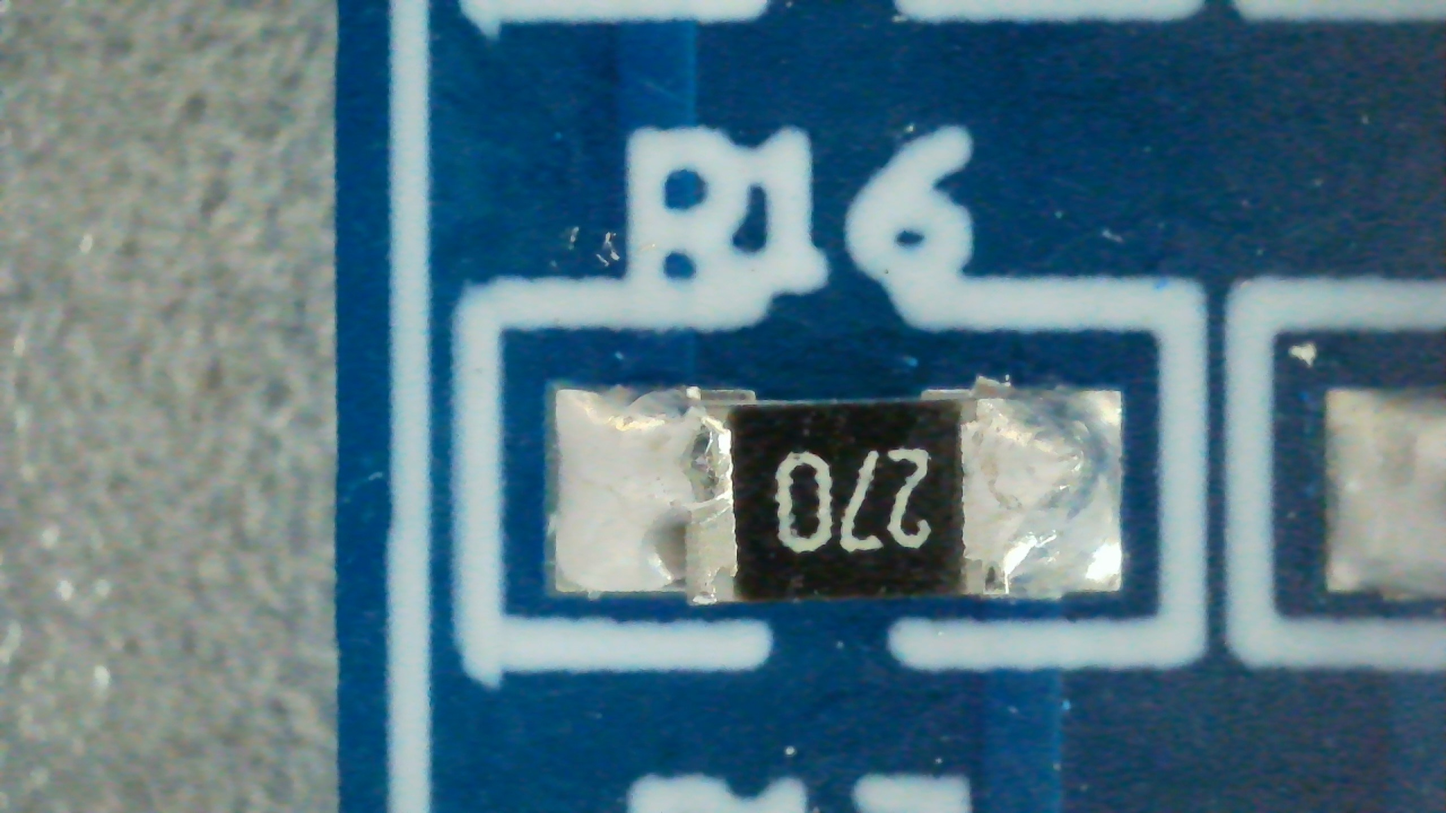OK: (553, 388, 1122, 600)
